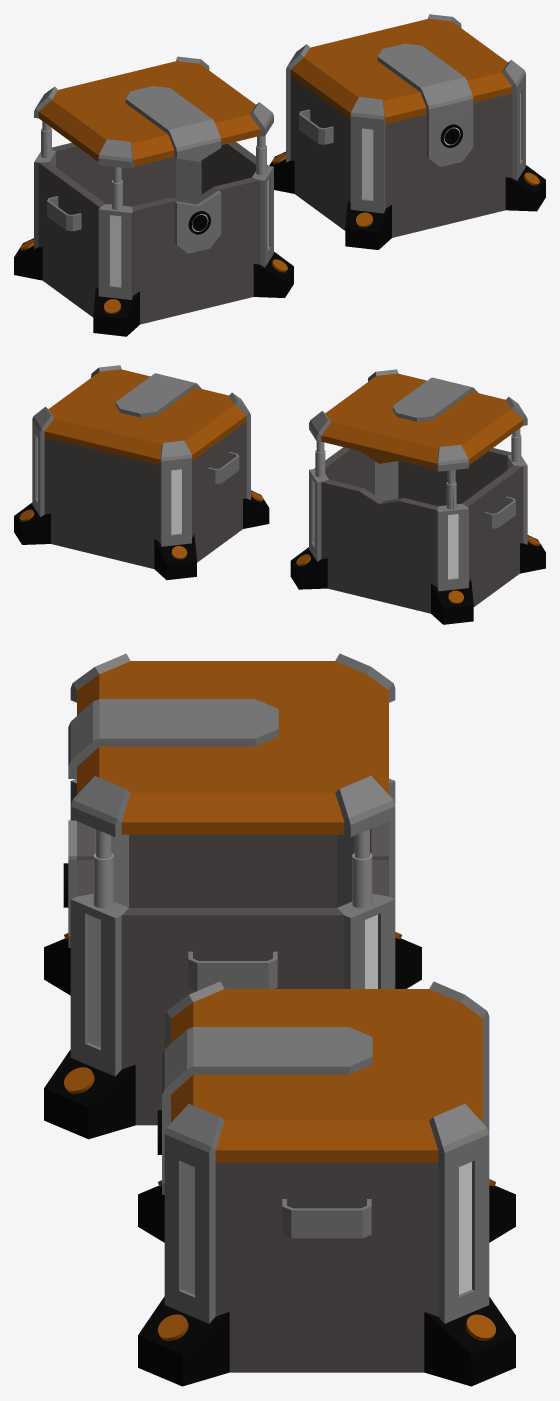
File: LootChestClosed.fbx
3 renders of one model, top to bottom at view 1: azimuth 30°, elevation 25°; view 2: azimuth 150°, elevation 25°; view 3: azimuth 270°, elevation 25°, orthographic. The views are drawn at different scales.
Visible parts, largest first — view 1: ChestModel1OPEN, ChestModel1; view 2: ChestModel1OPEN, ChestModel1; view 3: ChestModel1, ChestModel1OPEN.
Boxes of the visible parts, x1=… form: ChestModel1OPEN: x1=14, y1=56, x2=293, y2=336; ChestModel1: x1=269, y1=14, x2=545, y2=249; ChestModel1OPEN: x1=290, y1=369, x2=545, y2=624; ChestModel1: x1=14, y1=365, x2=269, y2=580; ChestModel1: x1=138, y1=981, x2=515, y2=1386; ChestModel1OPEN: x1=44, y1=653, x2=421, y2=1139.
Bounding box in the file's own units: 226 × 82 × 106.
